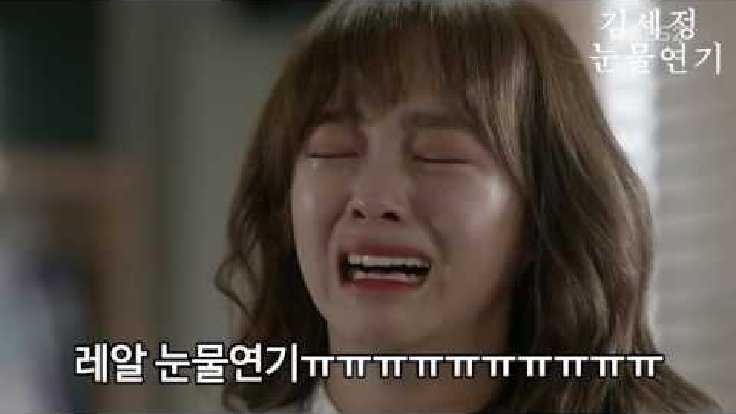sad: (280, 69, 506, 338)
